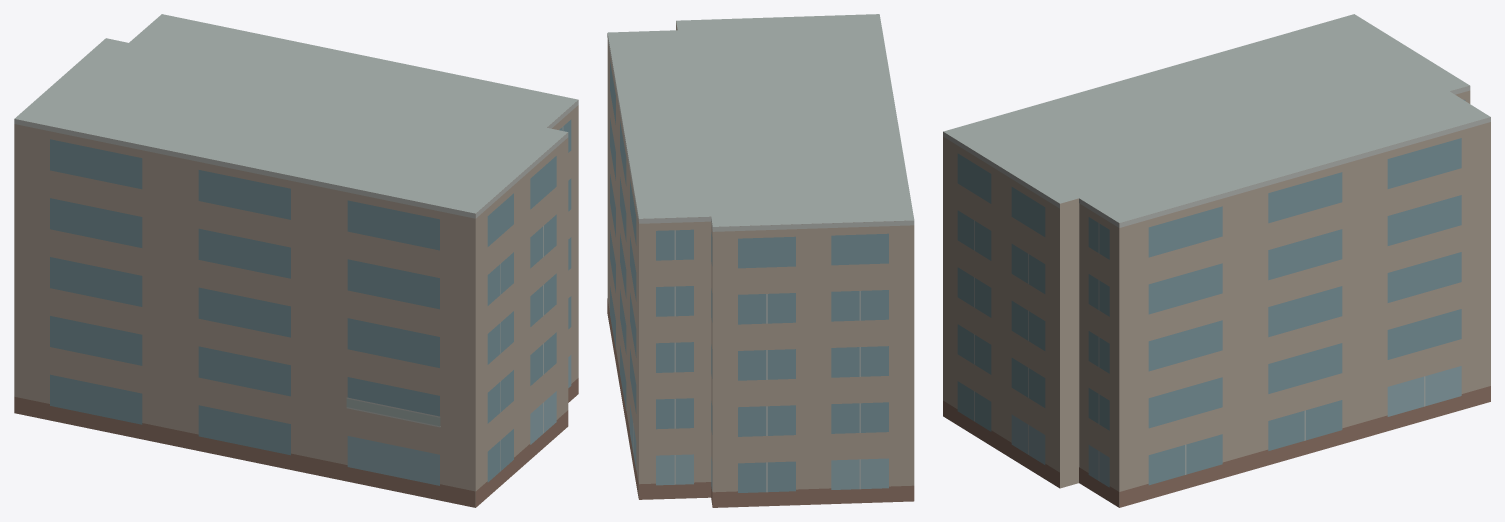
Rendered from survey-upis-32965641.glb.
3 views of the same model, side by side, from view 1: azimuth 30°, elevation 25°; view 2: azimuth 150°, elevation 25°; view 3: azimuth 270°, elevation 25° (orthographic). The views are drawn at different scales.
Parts seen in each view (by area): view 1: survey-upis-32965641.tmp; view 2: survey-upis-32965641.tmp; view 3: survey-upis-32965641.tmp.
Boxes of the visible parts, x1,y1,x2,y2 form: survey-upis-32965641.tmp: [14, 14, 578, 507]; survey-upis-32965641.tmp: [607, 14, 914, 507]; survey-upis-32965641.tmp: [943, 14, 1490, 507].
Bounding box in the file's own units: 22.14 × 14.05 × 24.5.
